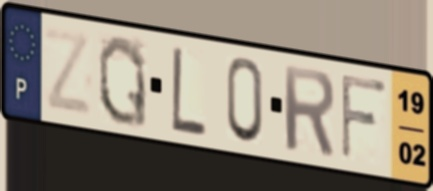0: (225, 55, 266, 146)
F: (338, 70, 389, 163)
L: (169, 43, 209, 141)
Q: (96, 32, 150, 132)
R: (280, 60, 338, 159)
Z: (41, 23, 94, 120)
